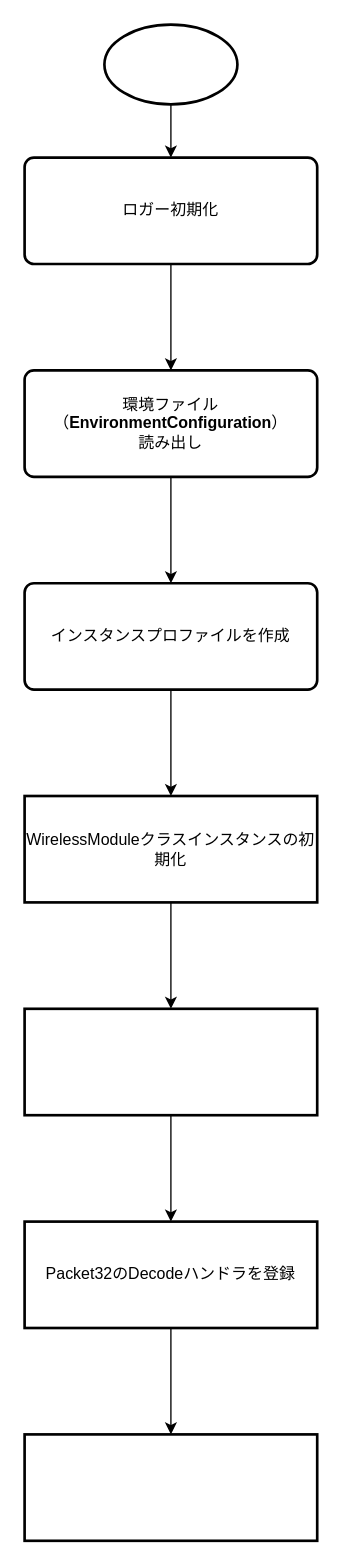
Some shapes in this 340 by 1564 pixel diagram are drawn without their labels. Each missing label, with the box of its shape:
MainWindowを初期化: (23, 1432, 318, 1541)
wirelessModuleにシリアル通信受信時のイベントを登録: (23, 1007, 318, 1116)
コンストラクタ: (102, 23, 238, 105)
